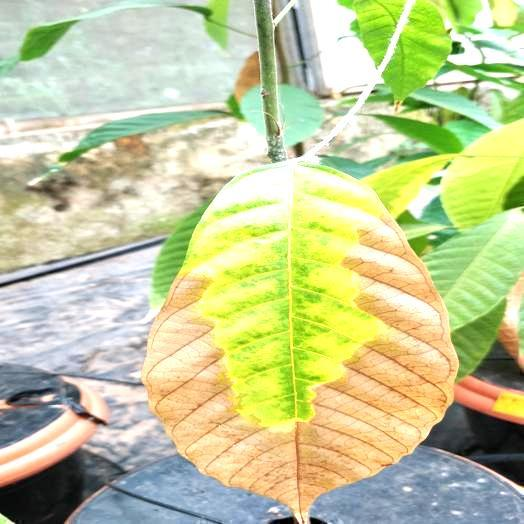Potassium: (142, 160, 457, 522)
